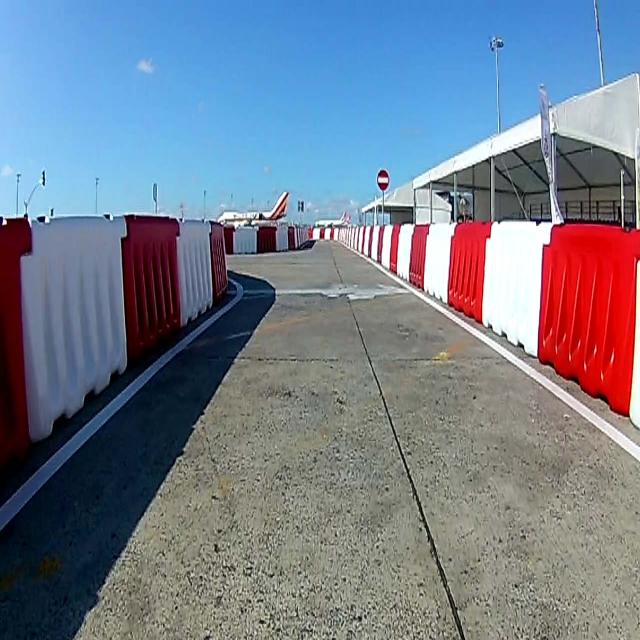girisyok: (376, 169, 390, 191)
